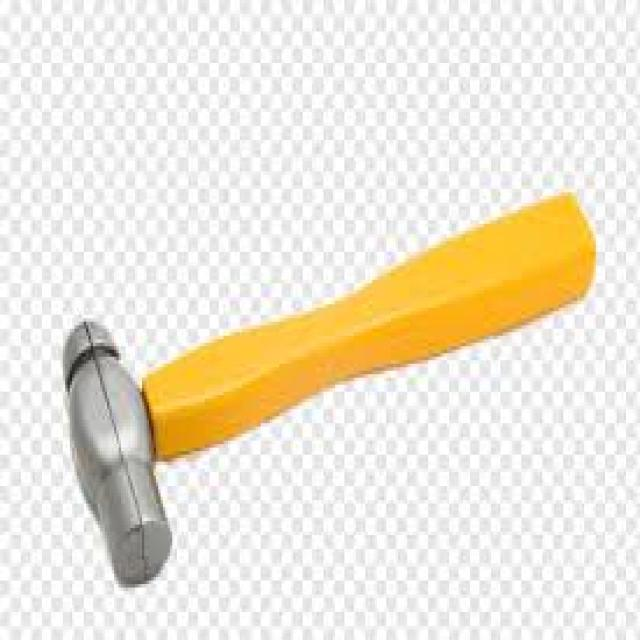Palu: (57, 190, 591, 586)
